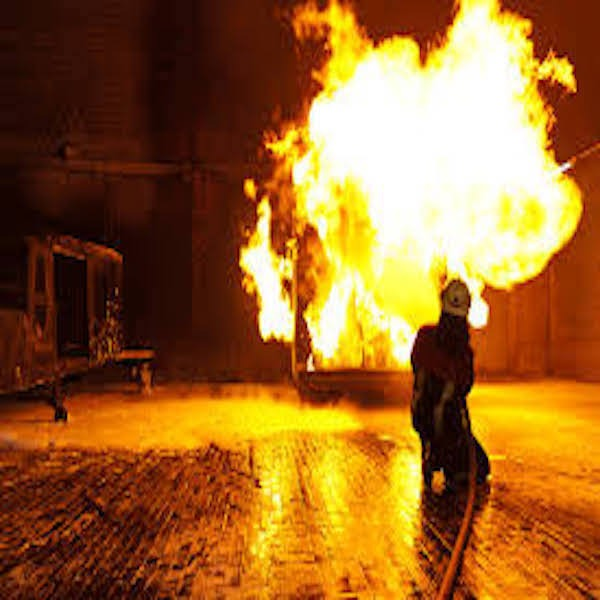fire: (276, 3, 581, 277), (256, 284, 411, 377), (244, 206, 304, 344)
helmet: (439, 282, 471, 316)
